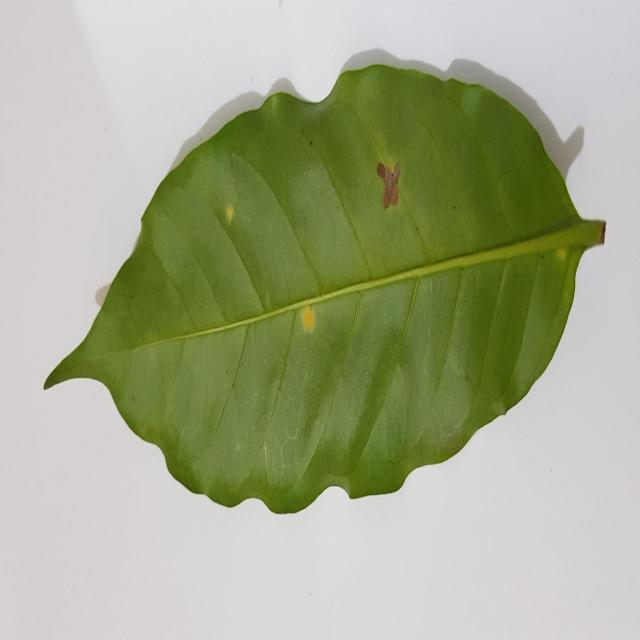miner: (376, 162, 400, 209)
rust: (299, 304, 317, 334), (222, 201, 235, 226)
